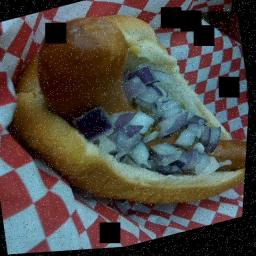hotdog: (30, 0, 156, 140), (79, 83, 205, 173), (198, 136, 249, 188)
